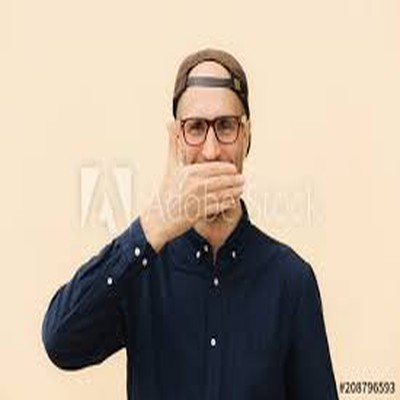eywear: (162, 107, 275, 171)
